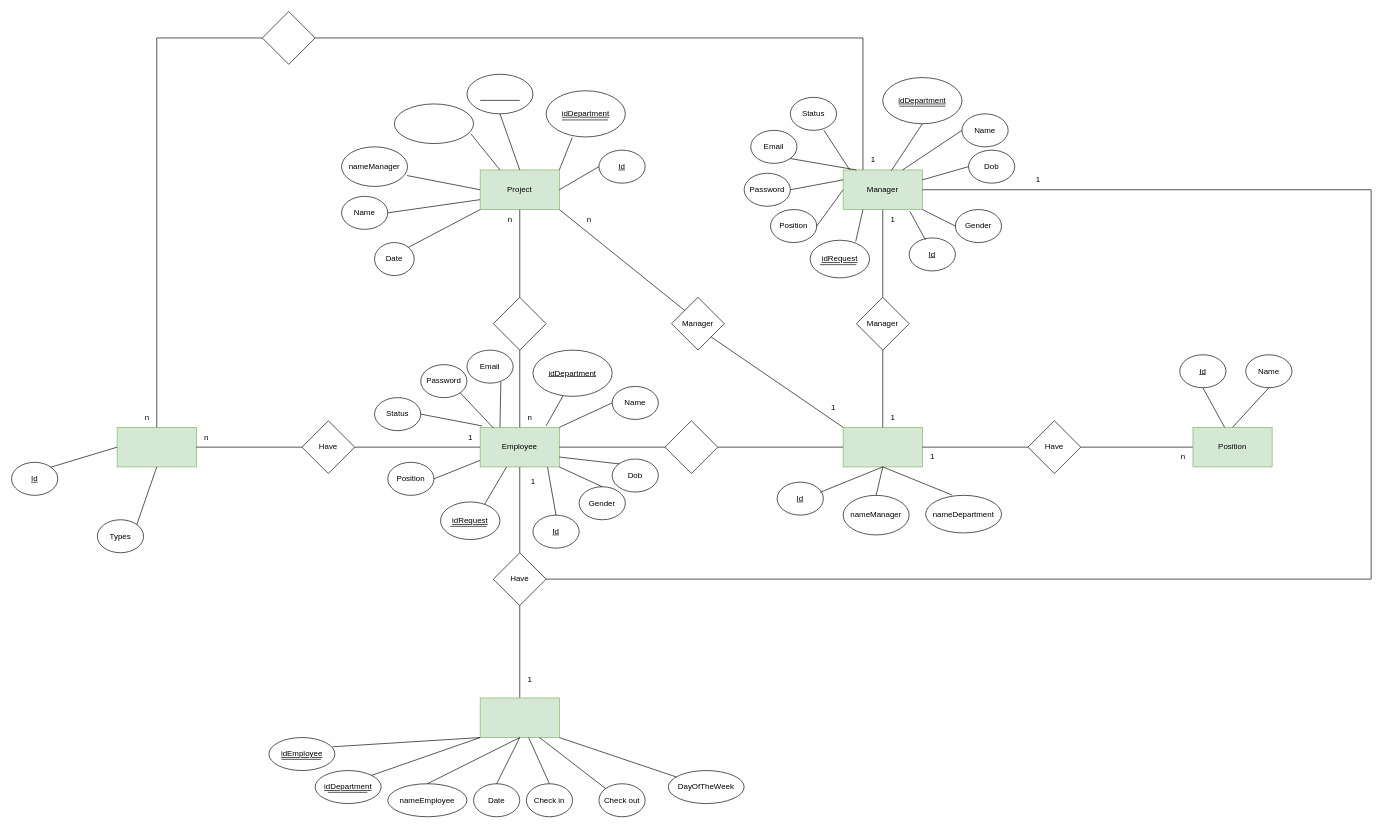
This 1383x828 diagram has some shape labels left out. The centre of each missing label's shape, as x and y in pixels:
"approve" belongs at [288,37].
"Belong" belongs at [691,447].
"Department" belongs at [882,447].
"idManager" belongs at [499,94].
"Join" belongs at [519,323].
"nameCustomer" belongs at [434,123].
"Request" belongs at [156,447].
"Time keeping" belongs at [519,717].
